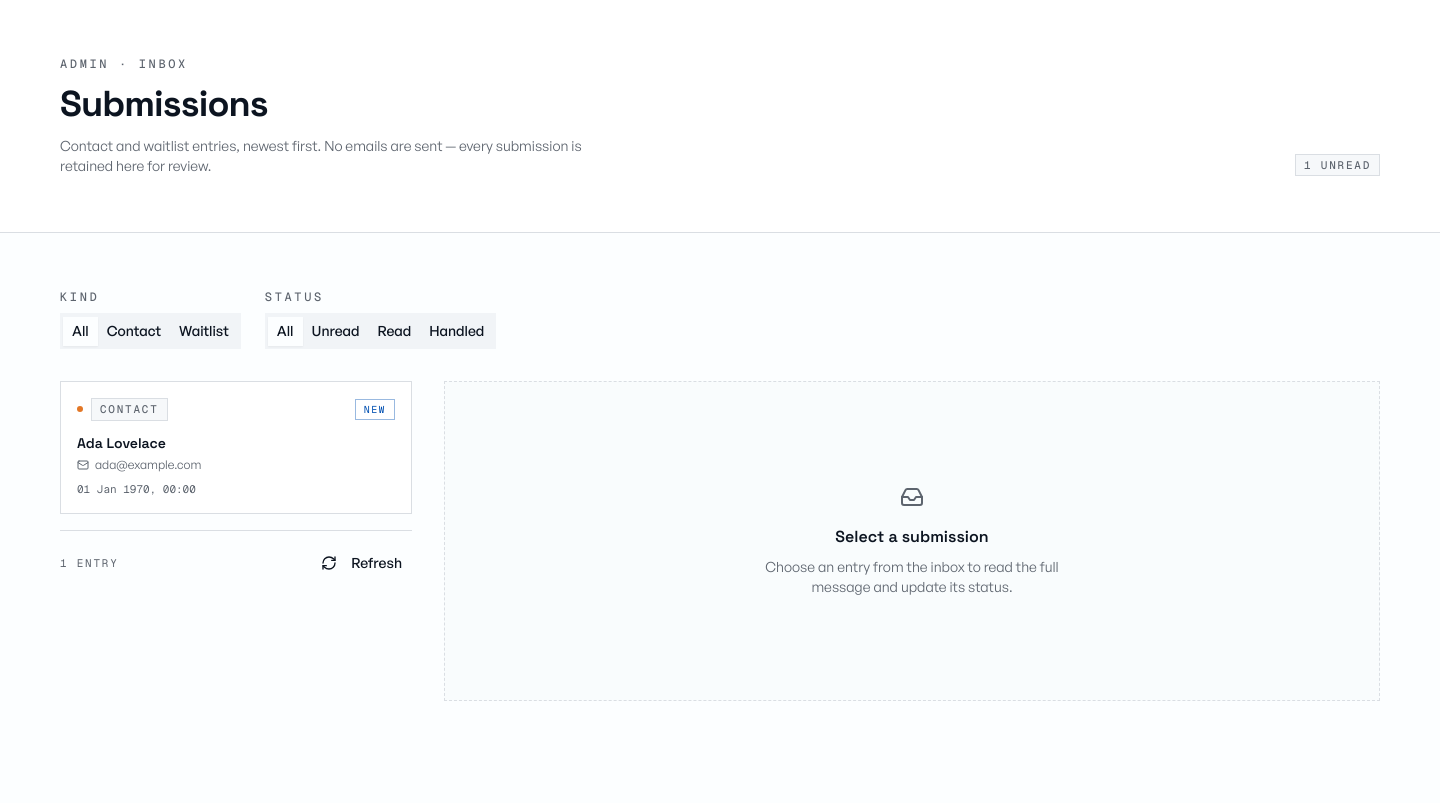
Test: AdminSubmissions inbox › shows submission details when an entry is selected
Click the button "Contact New Ada Lovelace ada@example.com 01 Jan 1970, 00:00" at (129, 409), box [60,381,412,514]
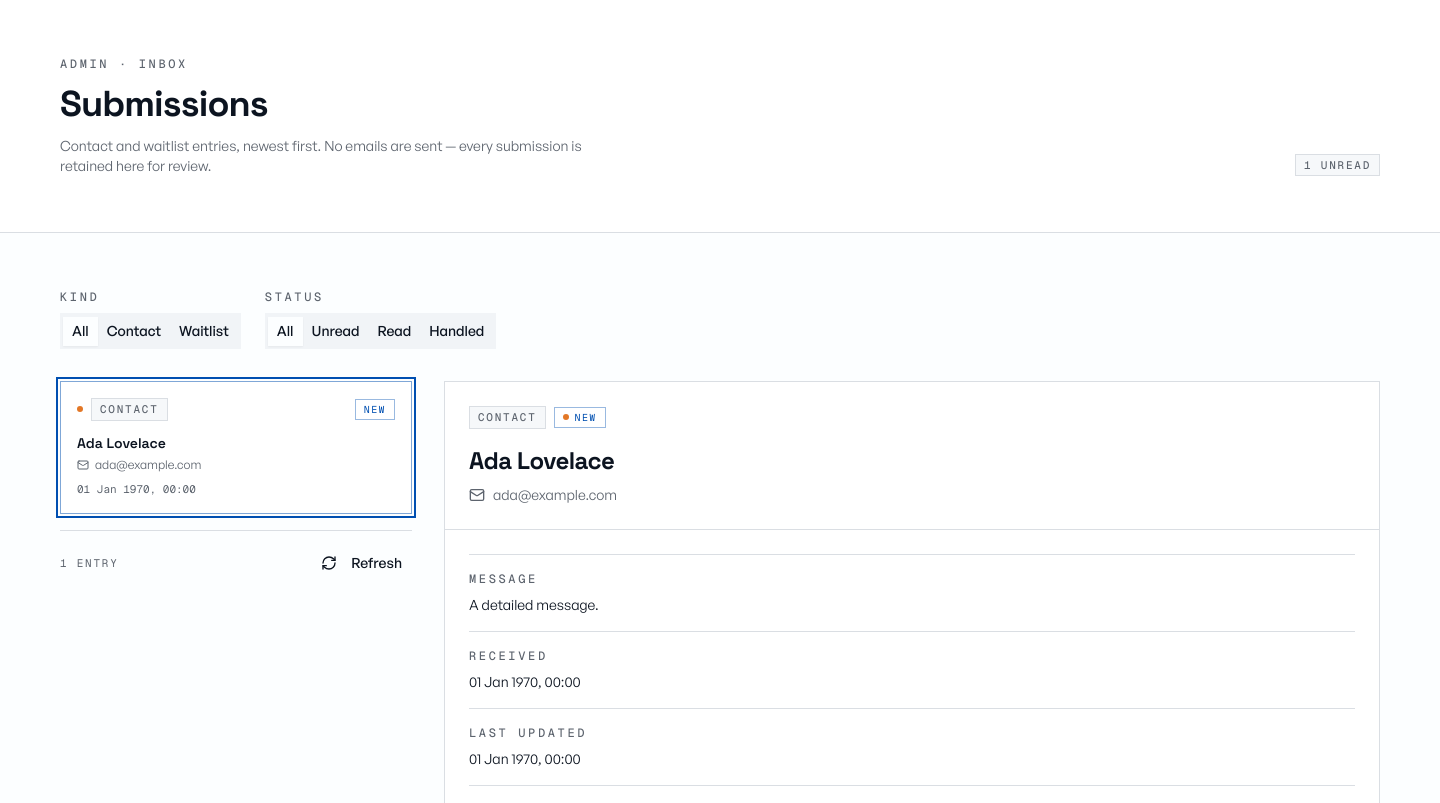
Expected: the text "A detailed message." is shown, [469,596,599,612]
Expected: the link "ada@example.com" is shown, [493,484,617,504]
